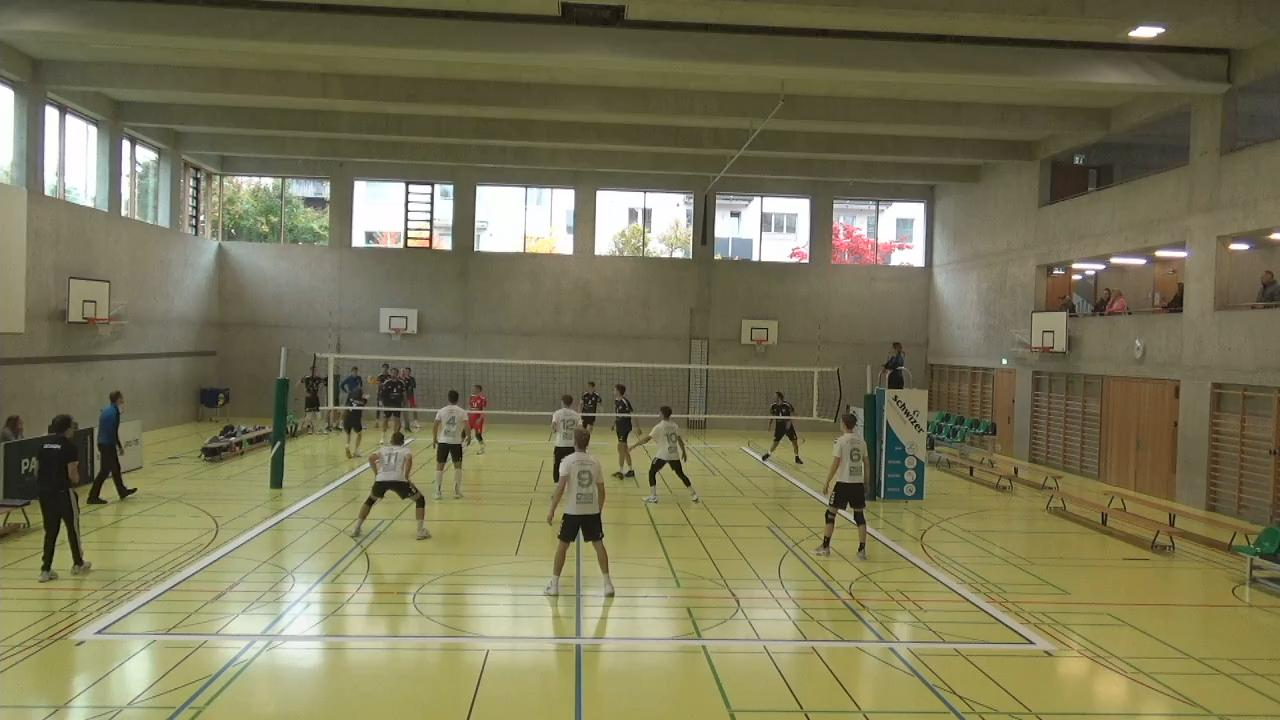Dig: (335, 376, 370, 466)
Player: (544, 432, 614, 596), (351, 426, 430, 539), (817, 414, 870, 557), (644, 406, 698, 504), (432, 387, 468, 498), (543, 392, 578, 491), (763, 390, 803, 464), (607, 380, 636, 478), (375, 368, 409, 449), (573, 370, 603, 443), (464, 385, 486, 458)
ball: (364, 371, 377, 390)
